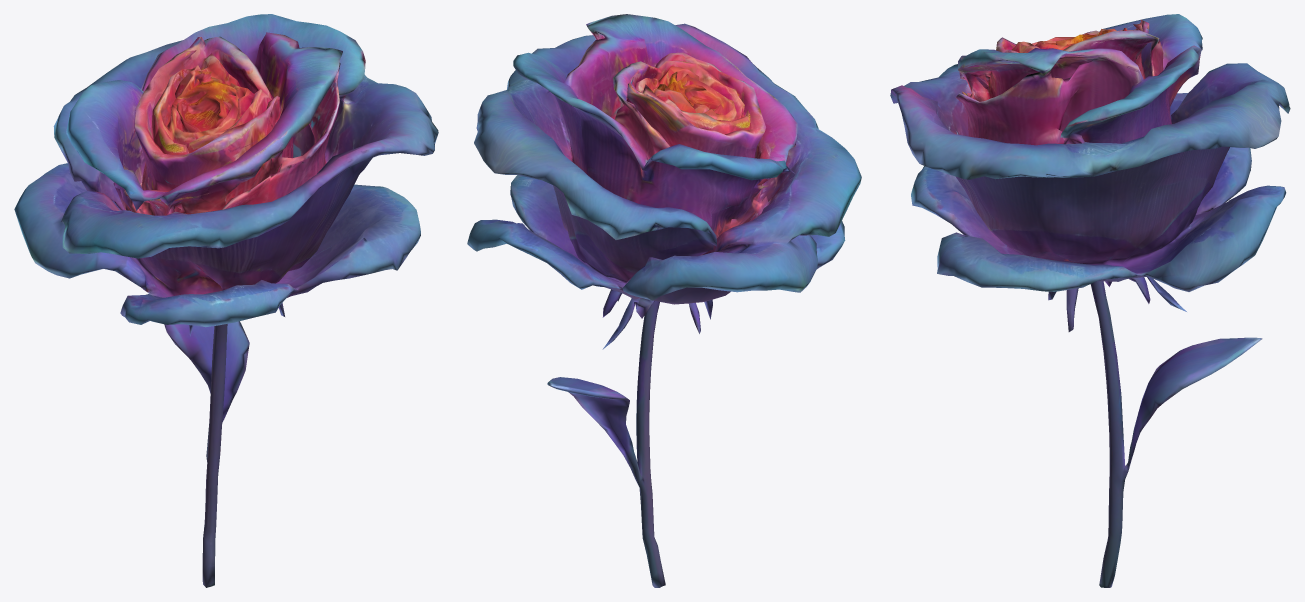
The model's file is flower.gltf.
The picture shows the model from 3 angles, left to right: view 1: azimuth 30°, elevation 25°; view 2: azimuth 150°, elevation 25°; view 3: azimuth 270°, elevation 25°; orthographic projection. The views are drawn at different scales.
Visible parts, largest first — view 1: Object_4; view 2: Object_4; view 3: Object_4.
Boxes of the visible parts, bbox=[...] form: Object_4: bbox=[14, 14, 438, 587]; Object_4: bbox=[467, 14, 861, 587]; Object_4: bbox=[890, 14, 1290, 587].
Size of the model in its own units: 1.33 by 2 by 1.27.
1 material, 1 textured.
